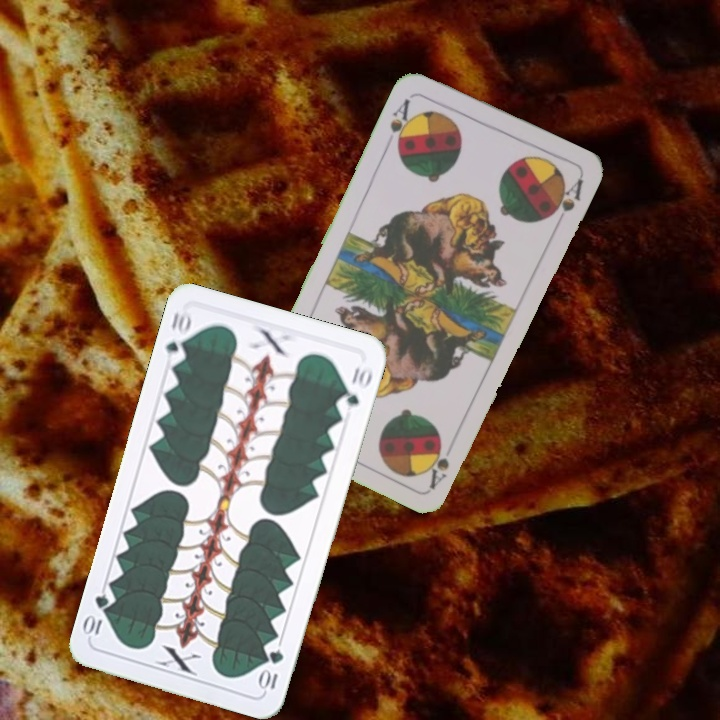G10: (161, 306, 194, 367), (256, 645, 286, 694)
SA: (386, 94, 418, 153), (424, 439, 452, 491)
